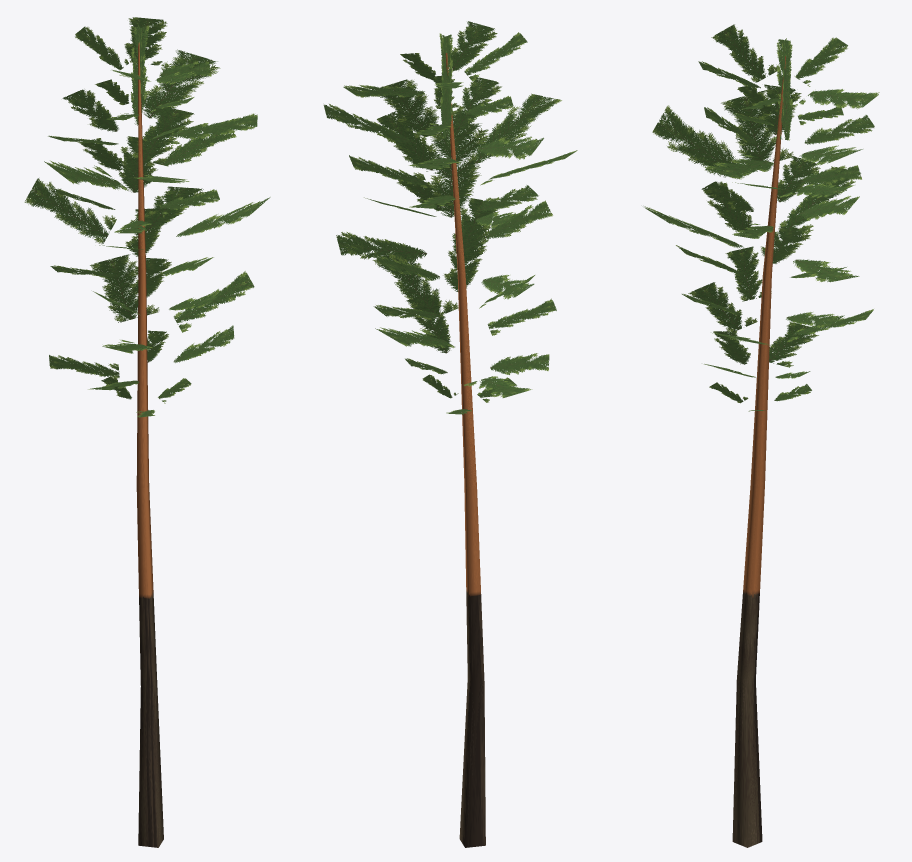
Rendered from mid.glb.
3 renders of one model, left to right at view 1: azimuth 30°, elevation 25°; view 2: azimuth 150°, elevation 25°; view 3: azimuth 270°, elevation 25°, orthographic. The views are drawn at different scales.
Parts seen in each view (by area): view 1: pine_03; view 2: pine_03; view 3: pine_03.
Boxes of the visible parts, x1=… form: pine_03: x1=24, y1=17, x2=270, y2=847; pine_03: x1=323, y1=21, x2=577, y2=847; pine_03: x1=644, y1=24, x2=879, y2=847.
Size of the model in its own units: 4.59 by 15.33 by 4.83.
Materials: 2 (2 with a texture image).
